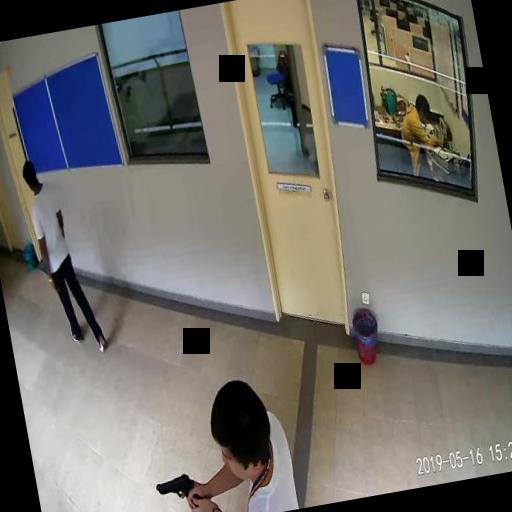Handgun: (152, 470, 196, 512)
